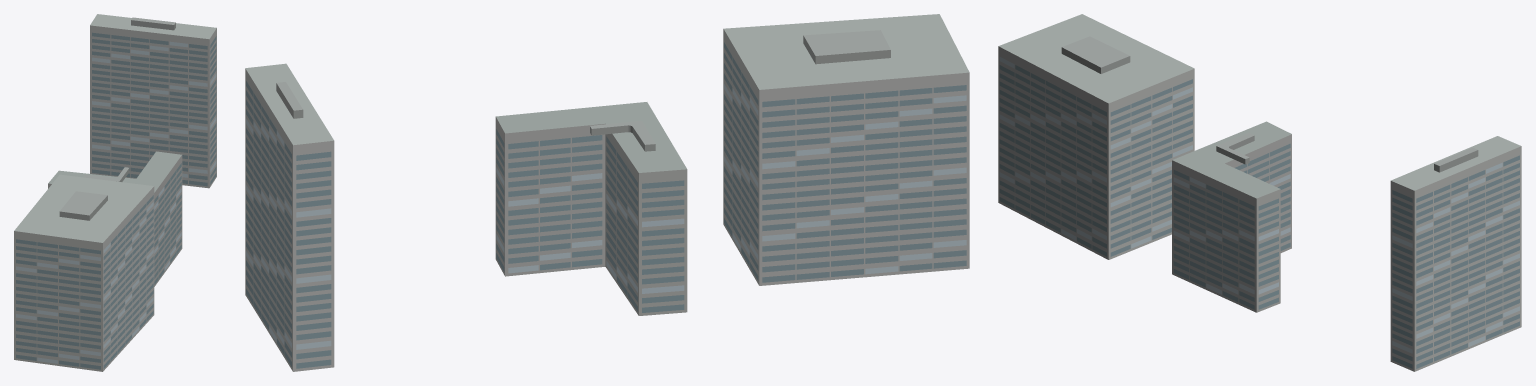
File: apt-a10027019.glb
The picture shows the model from 3 angles, left to right: view 1: azimuth 30°, elevation 25°; view 2: azimuth 150°, elevation 25°; view 3: azimuth 270°, elevation 25°; orthographic projection. The views are drawn at different scales.
Parts seen in each view (by area): view 1: apt-a10027019; view 2: apt-a10027019; view 3: apt-a10027019.
Boxes of the visible parts, x1,y1,x2,y2 form: apt-a10027019: (14,14,216,371); apt-a10027019: (245,14,969,371); apt-a10027019: (998,14,1521,371).
Bounding box in the file's own units: 159 × 69 × 174.
